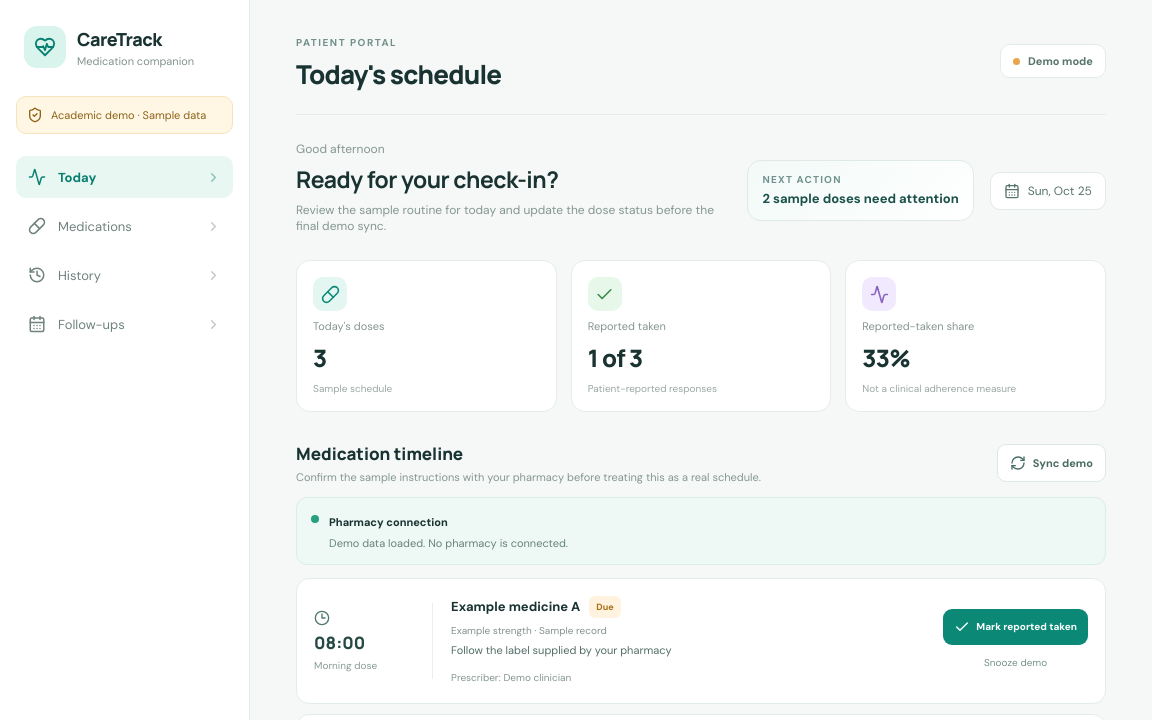
Test: demo medication dashboard › shows an empty history before any in-session updates
Click the button "History" at (124, 275), box 16,254 -> 233,296
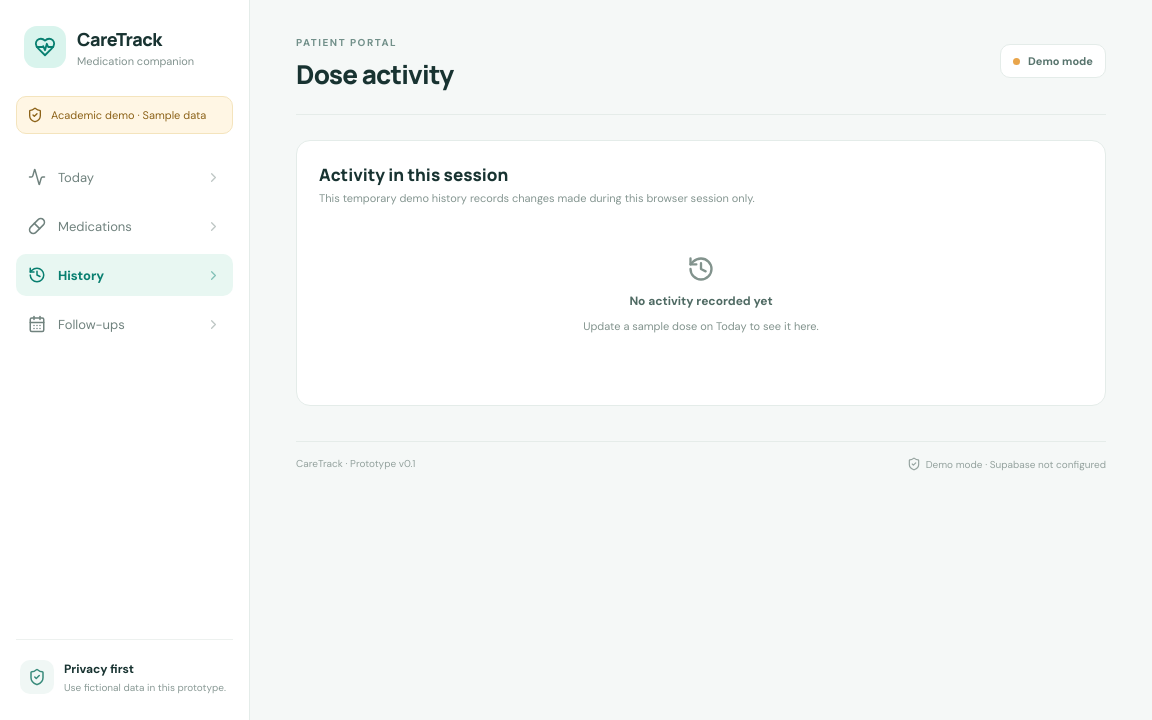
Check: the text "No activity recorded yet" is shown, box 629,293 -> 773,309
